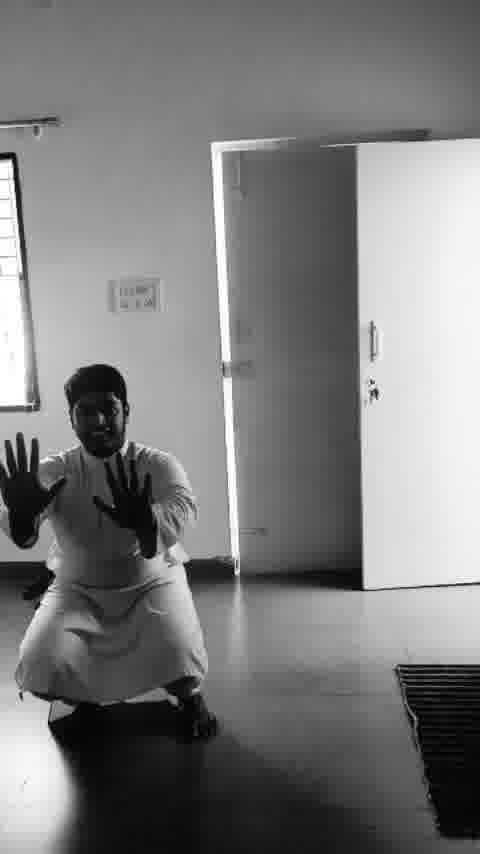duck: (15, 364, 237, 755)
